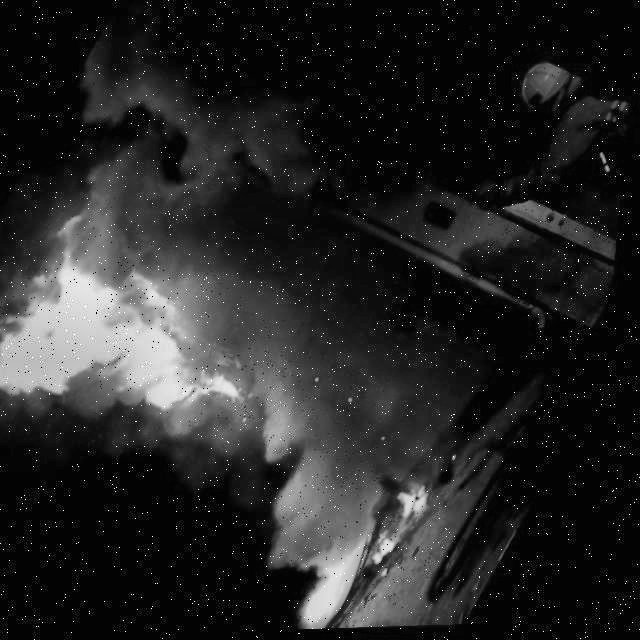Fire: (0, 188, 301, 541), (397, 478, 443, 525), (377, 535, 407, 568)
Smoke: (5, 0, 497, 344), (162, 236, 520, 614)
